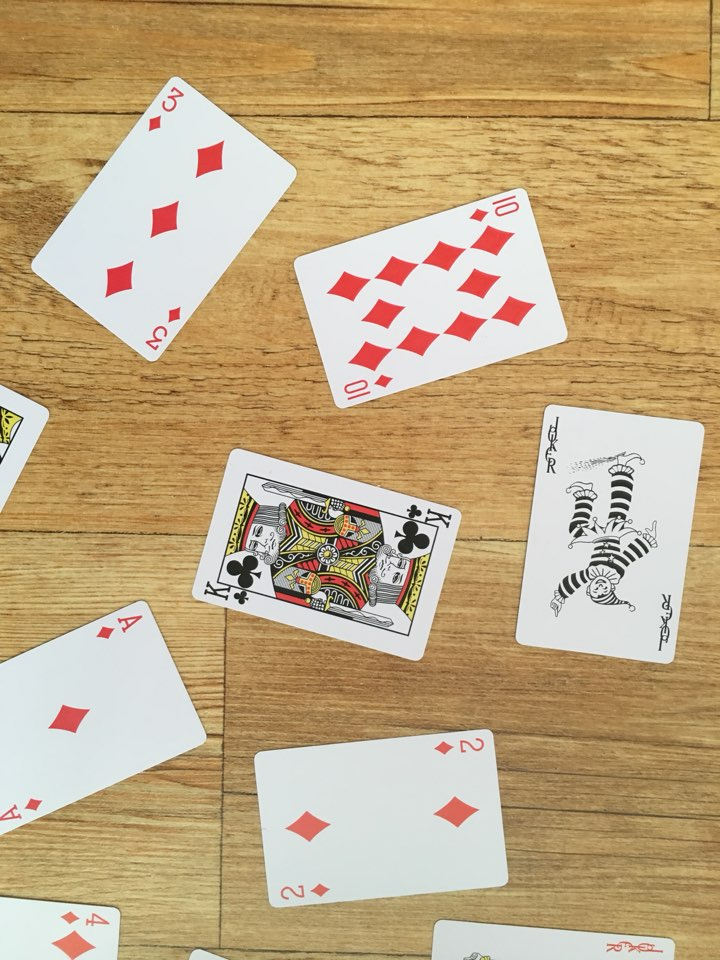ace: (4, 593, 205, 839)
king: (189, 441, 468, 668)
ten: (292, 187, 572, 412)
